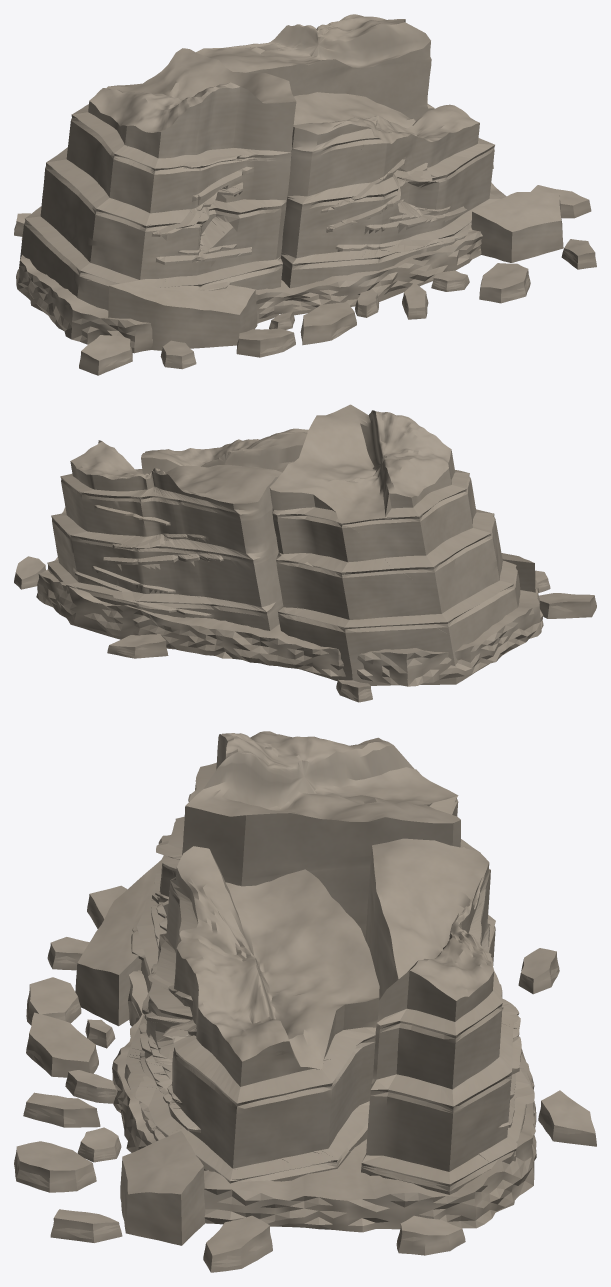
File: mars-outcrop-r1.glb
3 renders of one model, top to bottom at view 1: azimuth 30°, elevation 25°; view 2: azimuth 150°, elevation 25°; view 3: azimuth 270°, elevation 25°, orthographic. The views are drawn at different scales.
Parts seen in each view (by area): view 1: Stimson_Sandstone_Outcrop; view 2: Stimson_Sandstone_Outcrop; view 3: Stimson_Sandstone_Outcrop.
Part boxes in pixels (box(x1,y1,x2,y2)): Stimson_Sandstone_Outcrop: box(14, 14, 596, 375); Stimson_Sandstone_Outcrop: box(14, 404, 596, 702); Stimson_Sandstone_Outcrop: box(14, 731, 596, 1272).
Bounding box in the file's own units: 6.15 × 2.33 × 4.14.
1 material, 1 textured.
